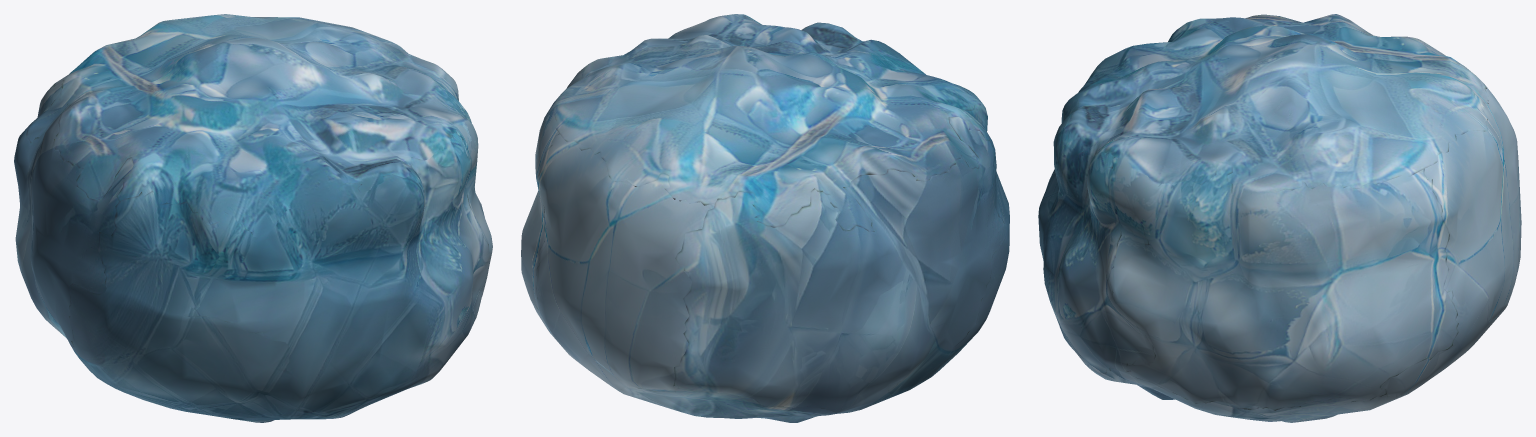
The picture shows the model from 3 angles, left to right: view 1: azimuth 30°, elevation 25°; view 2: azimuth 150°, elevation 25°; view 3: azimuth 270°, elevation 25°; orthographic projection.
Visible parts, largest first — view 1: Mesh_0; view 2: Mesh_0; view 3: Mesh_0.
Boxes of the visible parts, left/top/right/bottom form: Mesh_0: left=14, top=14, right=492, bottom=422; Mesh_0: left=521, top=14, right=1009, bottom=422; Mesh_0: left=1038, top=14, right=1521, bottom=422.
Size of the model in its own units: 119 by 99.61 by 120.
Materials: 1 (1 with a texture image).
